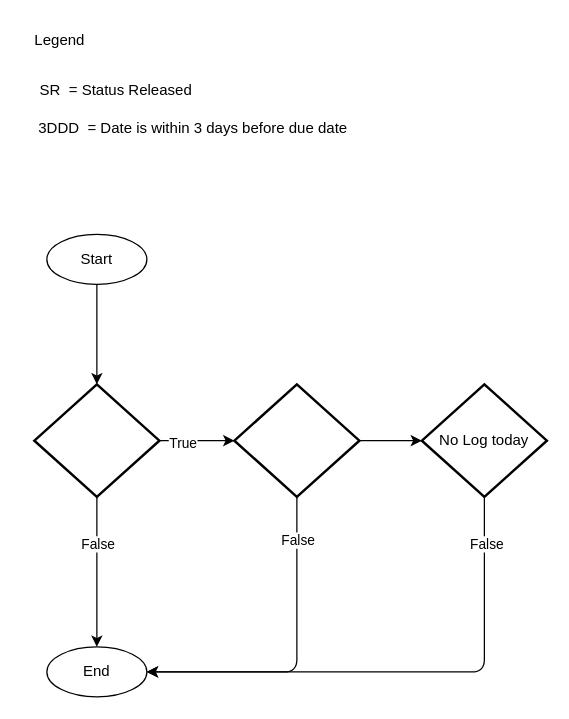
The diagram is 569 pixels wide and 719 high, and some of its shapes have lost their labels. The shapes that lost their labels are listed below. From the top down, each one's box as (x1, y1, x2, y2) in pixels, then its label:
(32, 382, 160, 498): Has due date
(232, 382, 360, 498): 3DDD
